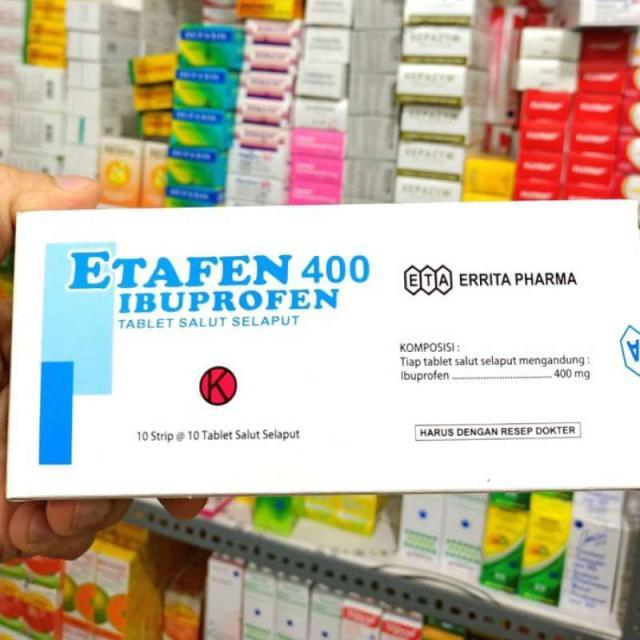drug-name: (68, 252, 374, 287)
